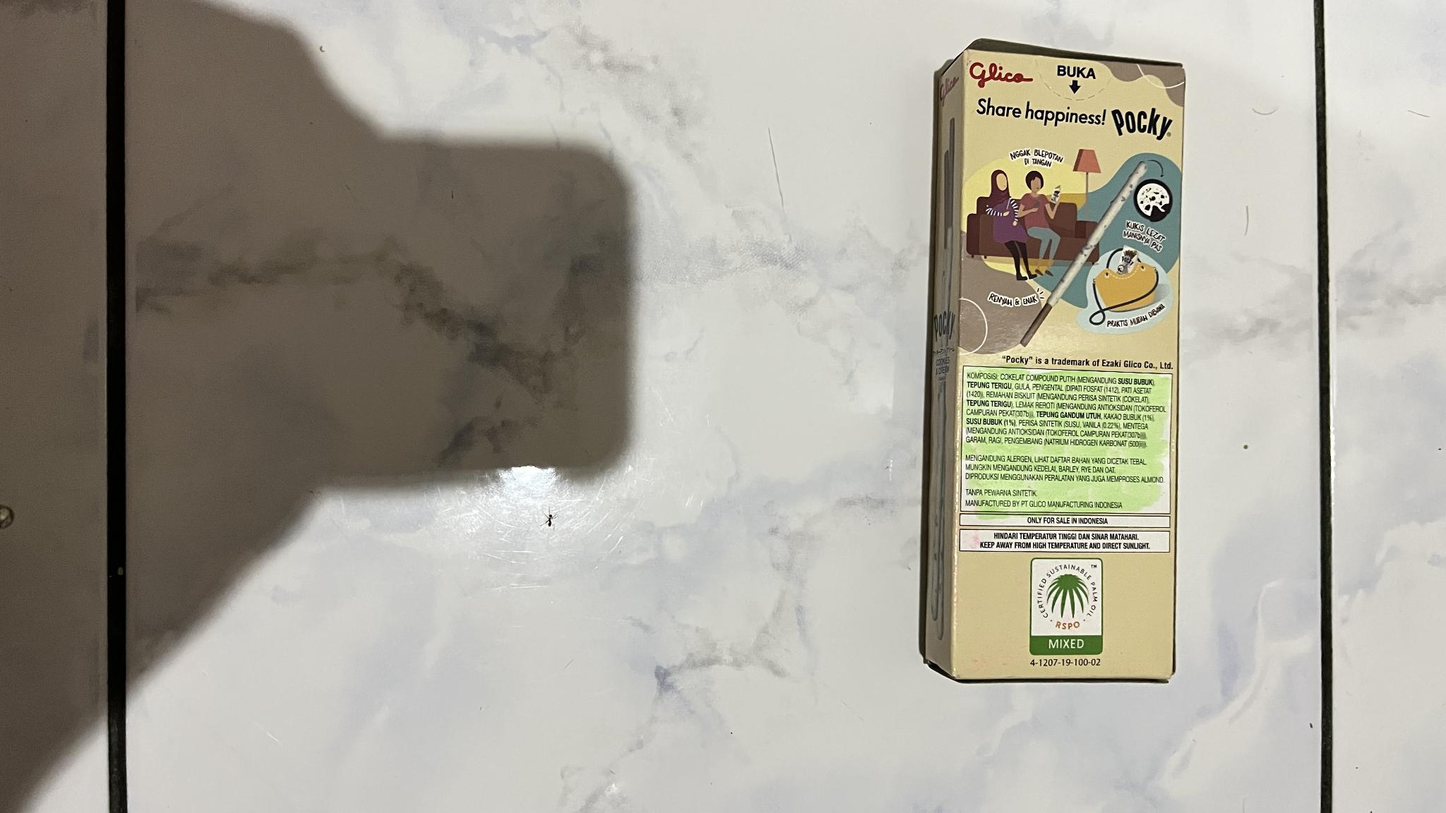Kertas: (950, 43, 1183, 686)
